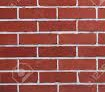brick: (39, 71, 77, 84), (58, 58, 97, 70), (19, 58, 57, 70), (59, 32, 96, 44), (1, 45, 38, 57), (39, 45, 76, 57), (1, 71, 38, 83), (1, 20, 37, 32), (58, 8, 96, 19), (38, 20, 76, 31), (19, 8, 56, 19), (18, 34, 57, 44), (58, 83, 98, 92), (76, 19, 105, 31), (77, 45, 105, 57), (19, 84, 57, 92), (78, 71, 105, 82), (1, 58, 17, 70), (39, 1, 76, 6), (1, 1, 37, 6), (1, 8, 17, 19), (1, 34, 17, 44), (1, 83, 18, 92), (78, 1, 104, 6), (98, 58, 105, 71), (97, 33, 105, 44), (98, 8, 105, 18), (99, 84, 105, 91)
